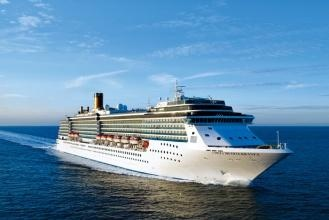youlun: (44, 85, 291, 184)
